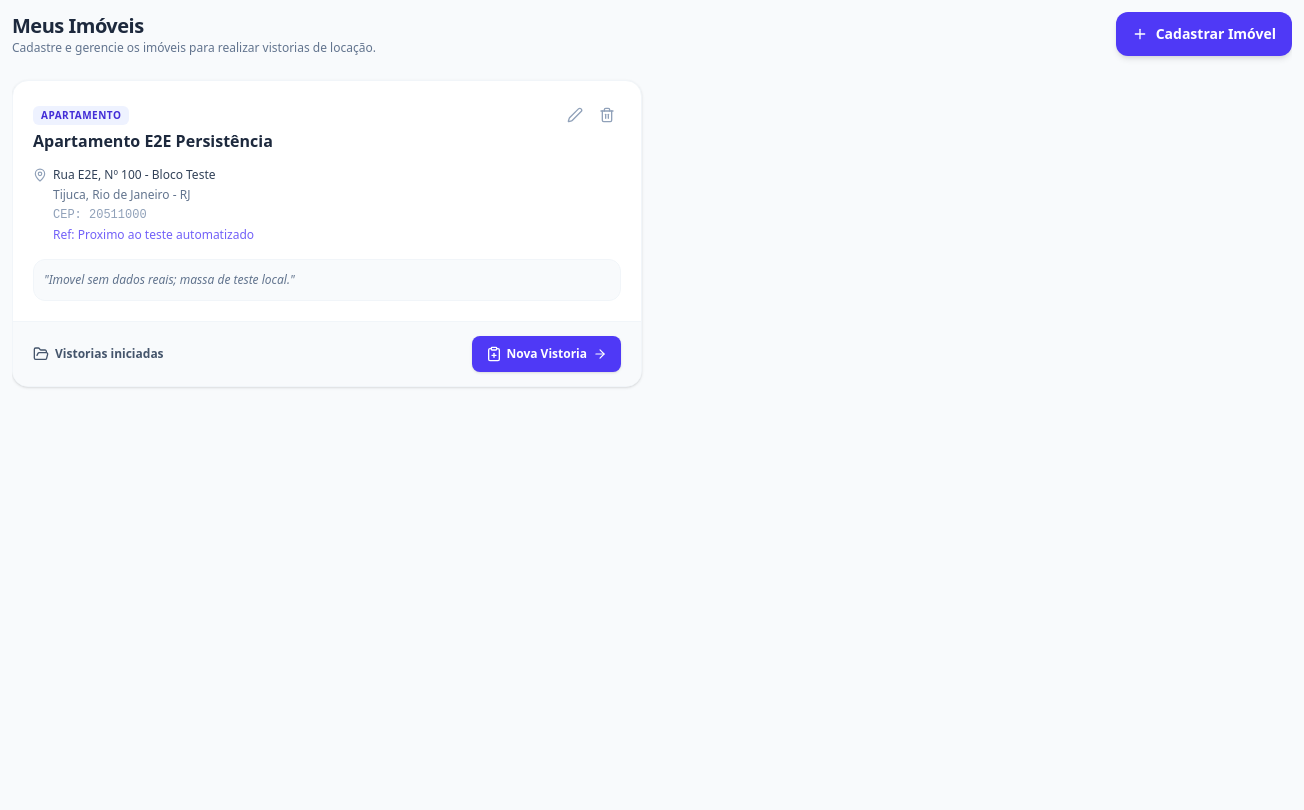
Test: PropertyManager Component Tests › shows validation errors when saving with missing required fields
Expected: the heading "Meus Imóveis" is shown, [12,12,144,39]
Note: Click register button
Click the button "Cadastrar Imóvel". click: (1204, 34)
box: [1116,12,1292,56]
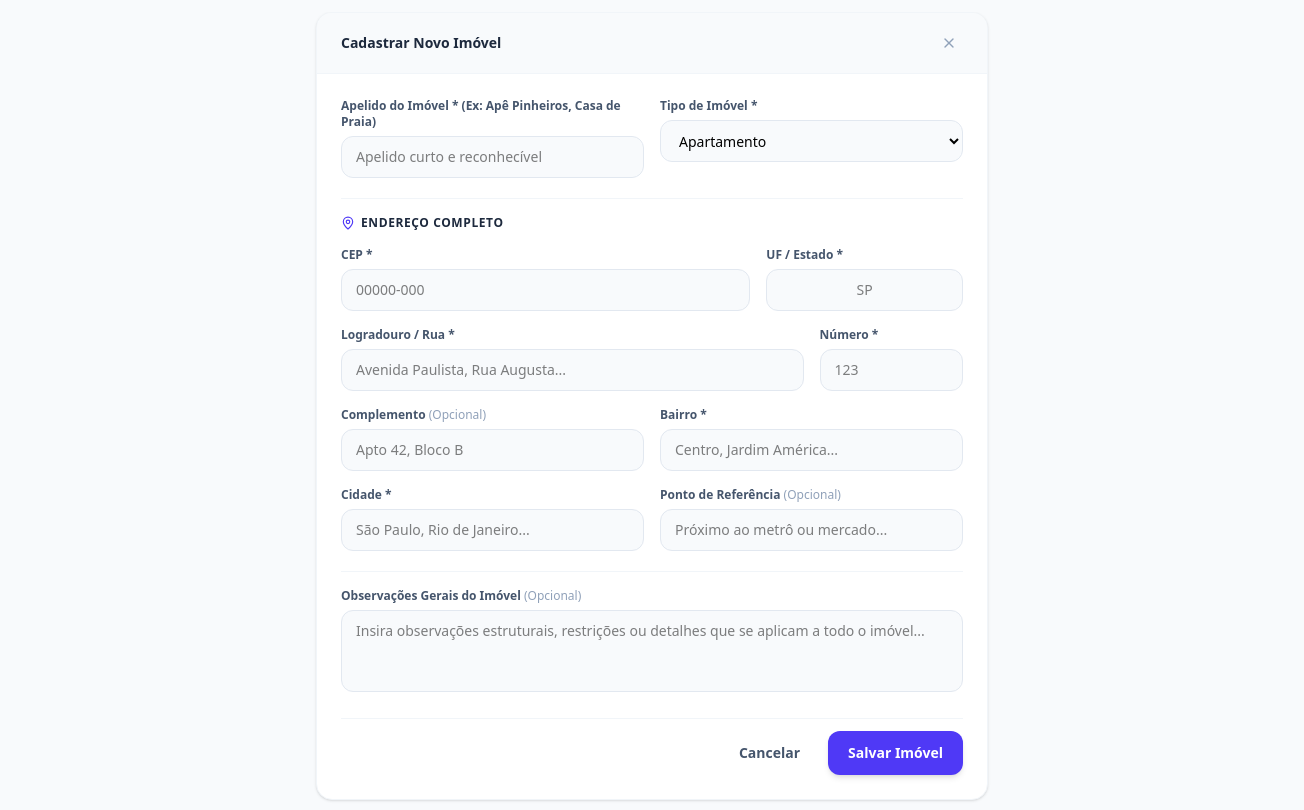
Expected: the form is shown
Submit the form, box [317,74,987,799]
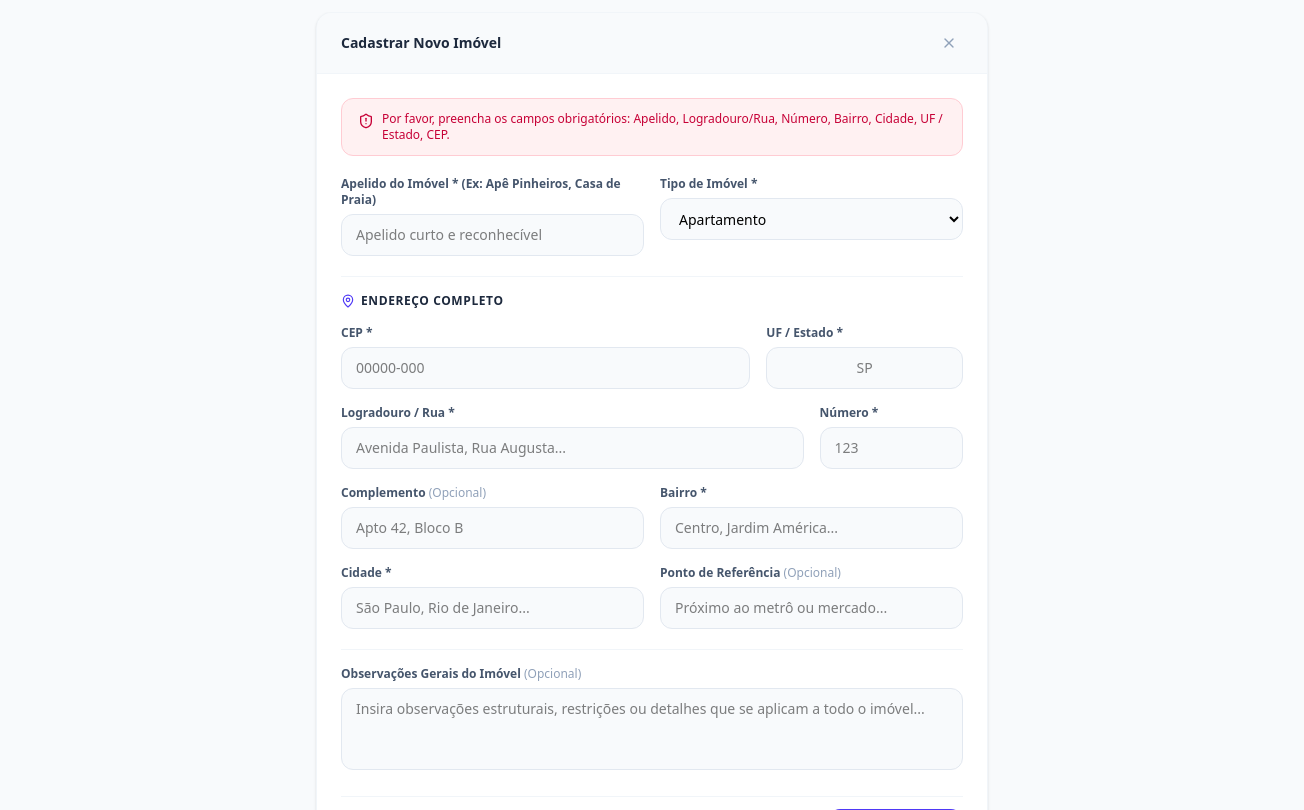
Expected: the text "Por favor, preencha os campos obrigatórios" is shown, [382,110,943,143]
